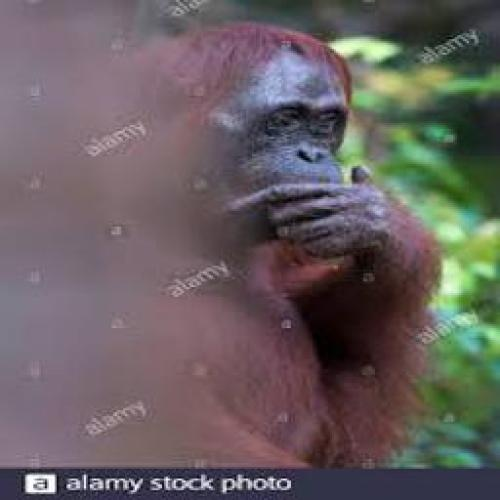orangutan-endangered: (142, 16, 438, 471)
